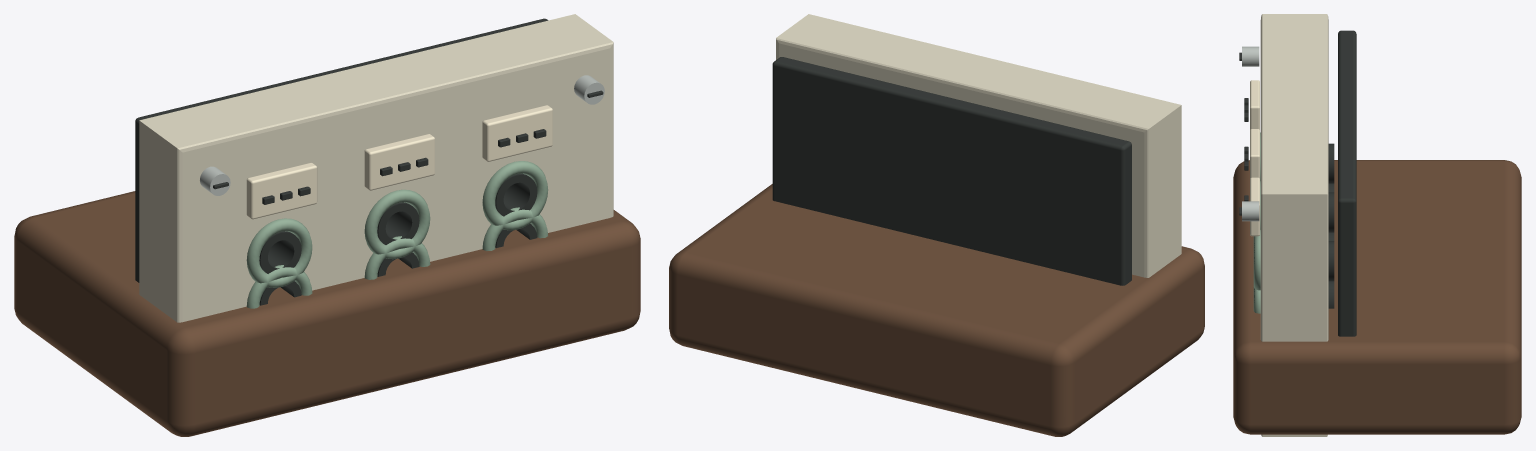
The model's file is abandoned-telephone-exchange-plug-test-block-2a27a8bb__31994.glb.
The picture shows the model from 3 angles, left to right: view 1: azimuth 30°, elevation 25°; view 2: azimuth 150°, elevation 25°; view 3: azimuth 270°, elevation 25°; orthographic projection. The views are drawn at different scales.
Visible parts, largest first — view 1: plug-test-block; view 2: plug-test-block; view 3: plug-test-block.
Boxes of the visible parts, bbox=[...] form: plug-test-block: bbox=[14, 14, 640, 436]; plug-test-block: bbox=[669, 14, 1204, 436]; plug-test-block: bbox=[1233, 14, 1521, 436].
Bounding box in the file's own units: 0.32 × 0.186 × 0.2.
